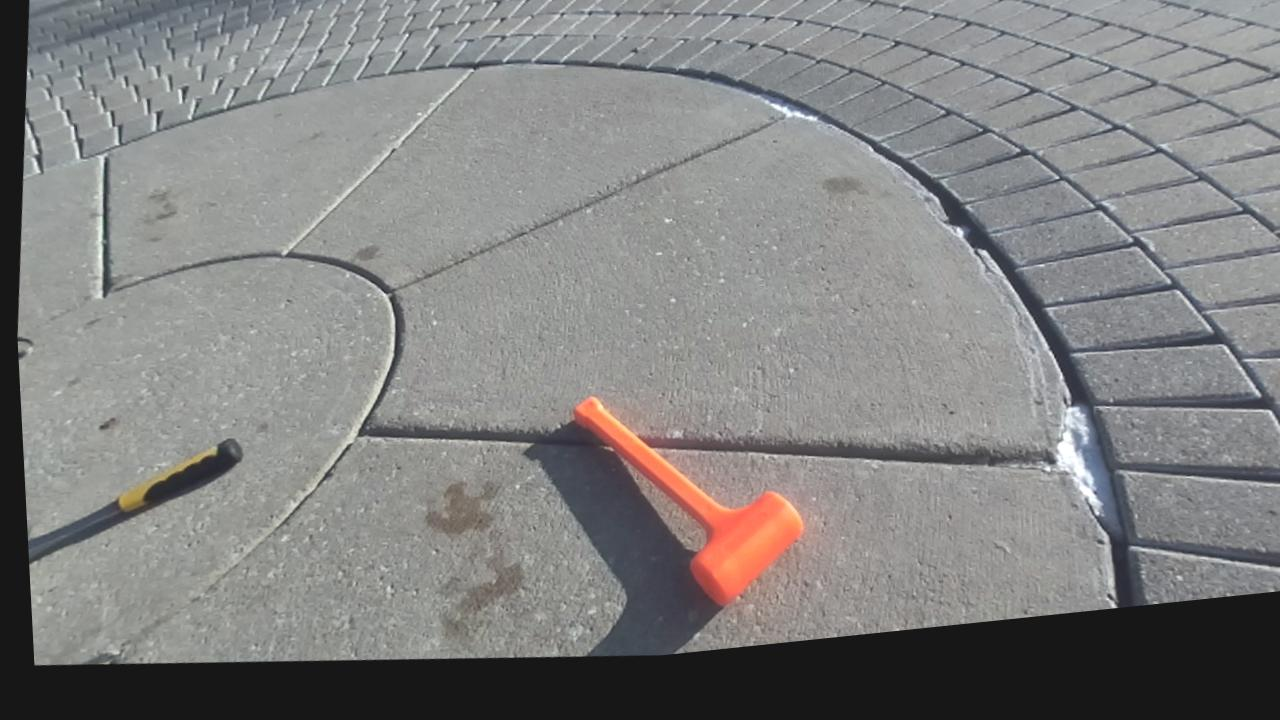mallet: (575, 397, 803, 604)
